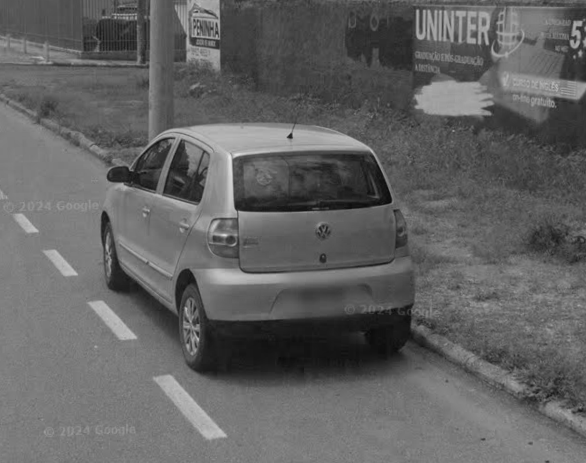car: (94, 95, 422, 376)
